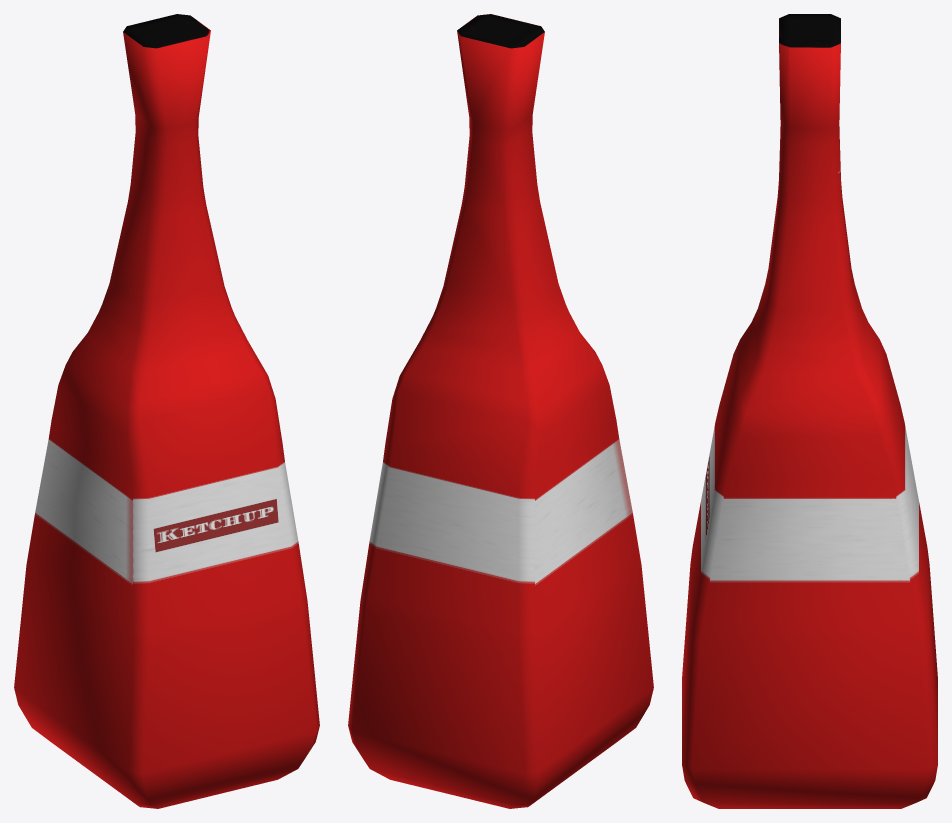
The model's file is Ketchup Bottle.fbx.
3 views of the same model, side by side, from view 1: azimuth 30°, elevation 25°; view 2: azimuth 150°, elevation 25°; view 3: azimuth 270°, elevation 25° (orthographic). The views are drawn at different scales.
Visible parts, largest first — view 1: Ketchup_Bottle; view 2: Ketchup_Bottle; view 3: Ketchup_Bottle.
Part boxes in pixels (x1,y1,x2,y2): Ketchup_Bottle: (14,14,319,808); Ketchup_Bottle: (348,14,653,808); Ketchup_Bottle: (682,14,937,808).
Bounding box in the file's own units: 45.72 × 169 × 52.
1 material, 1 textured.
